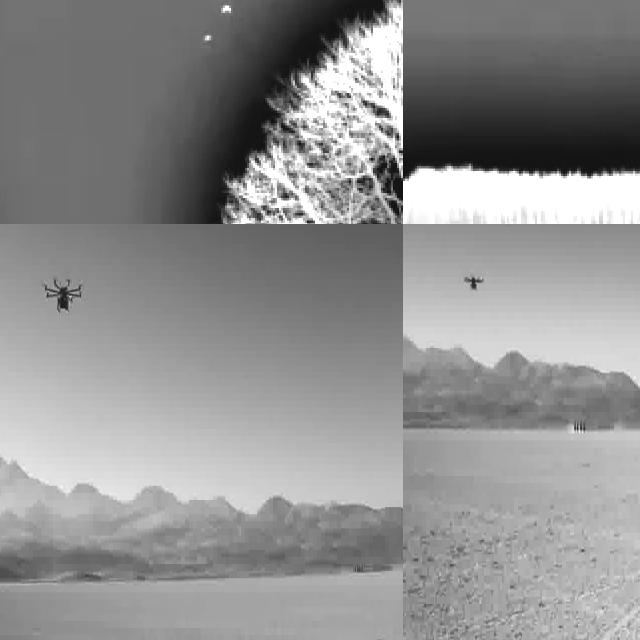0: (211, 3, 241, 23), (191, 31, 217, 53)
drone: (40, 269, 88, 322), (459, 268, 486, 297)
